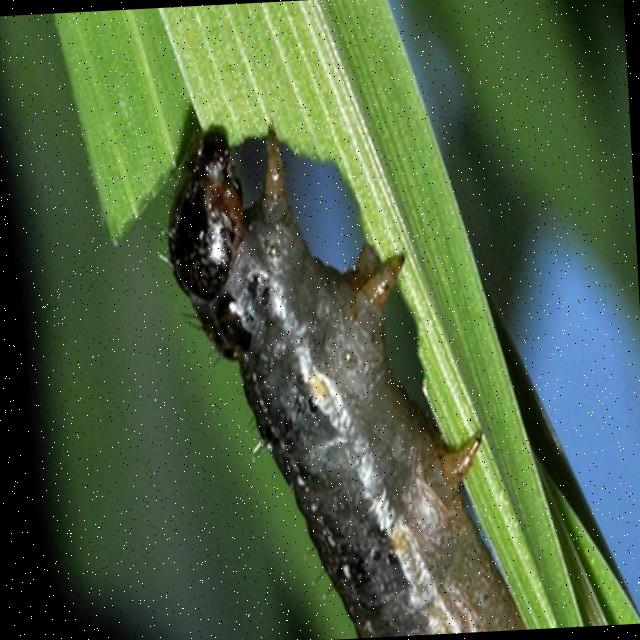worm: (155, 114, 536, 640)
